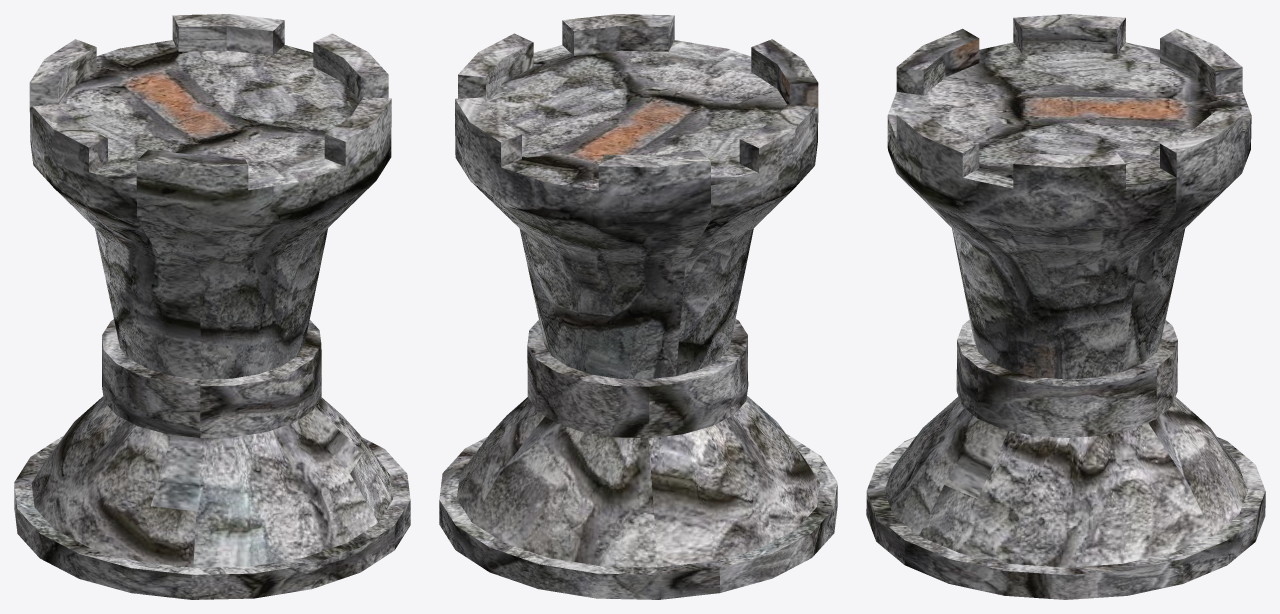
The model's file is KR_Model_GuardTower_v03_Vang.fbx.
3 views of the same model, side by side, from view 1: azimuth 30°, elevation 25°; view 2: azimuth 150°, elevation 25°; view 3: azimuth 270°, elevation 25° (orthographic).
Visible parts, largest first — view 1: pCylinder6; view 2: pCylinder6; view 3: pCylinder6.
Part boxes in pixels (box(x1,y1,x2,y2)): pCylinder6: box(14, 14, 410, 599); pCylinder6: box(439, 14, 837, 599); pCylinder6: box(866, 14, 1265, 599).
Bounding box in the file's own units: 3.97 × 4.67 × 3.97.
1 material, 1 textured.
